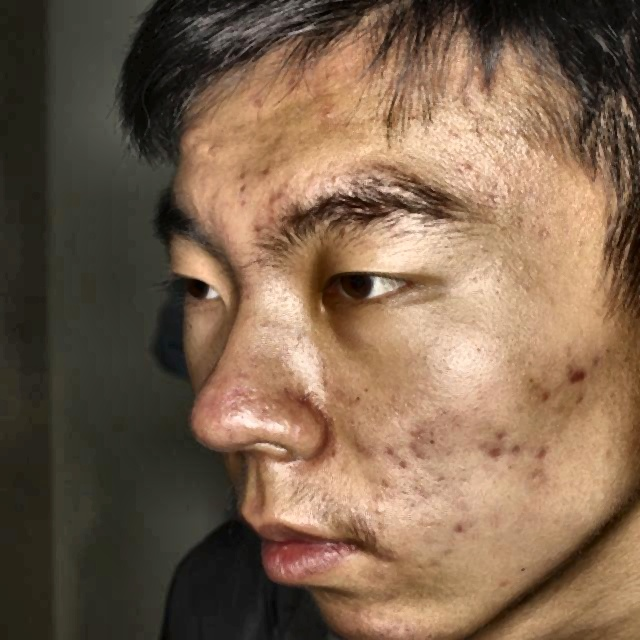pustule: (512, 430, 556, 470), (478, 422, 520, 457), (561, 354, 596, 387), (265, 184, 297, 218), (246, 217, 275, 245), (401, 424, 434, 448), (380, 442, 407, 471)
